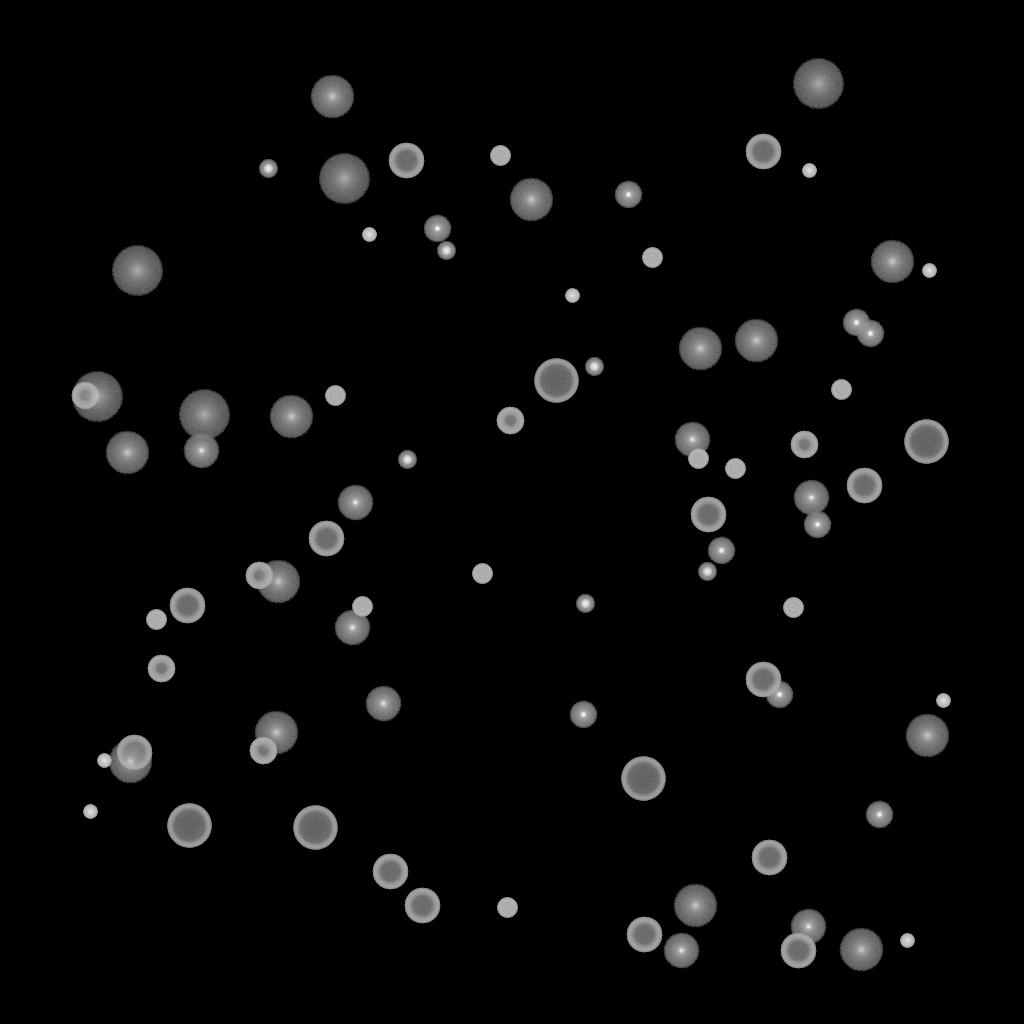depth:-10: (803, 511, 831, 539), (614, 181, 642, 209), (707, 537, 735, 565), (765, 681, 793, 709), (856, 320, 884, 348), (865, 801, 893, 829), (569, 701, 597, 729), (423, 215, 451, 243), (842, 309, 870, 337)
depth:-20: (585, 358, 603, 376), (398, 451, 416, 469), (437, 242, 455, 260), (259, 160, 277, 178), (698, 563, 716, 581), (576, 595, 594, 613)
depth:-30: (83, 805, 97, 819), (802, 164, 816, 178), (936, 694, 950, 708), (362, 228, 376, 242), (565, 289, 579, 303), (97, 754, 111, 768), (900, 934, 914, 948), (922, 264, 936, 278)
depth:-40: (642, 248, 662, 268), (497, 898, 517, 918), (783, 598, 803, 618), (831, 380, 851, 400), (325, 386, 345, 406), (146, 610, 166, 630), (688, 449, 708, 469), (725, 459, 745, 479), (472, 564, 492, 584), (490, 146, 510, 166), (352, 597, 372, 617)
depth:-50: (249, 737, 277, 765), (496, 407, 524, 435), (245, 562, 273, 590), (147, 655, 175, 683), (71, 382, 99, 410), (790, 431, 818, 459)
depth:-60: (751, 840, 787, 876), (372, 854, 408, 890), (116, 735, 152, 771), (388, 143, 424, 179), (308, 521, 344, 557), (780, 933, 816, 969), (690, 497, 726, 533), (626, 917, 662, 953), (404, 888, 440, 924), (846, 468, 882, 504), (169, 588, 205, 624), (745, 134, 781, 170), (745, 662, 781, 698)
depth:-70: (534, 359, 578, 403), (904, 420, 948, 464), (293, 806, 337, 850), (167, 804, 211, 848), (621, 757, 665, 801)
depth:0: (674, 422, 710, 458), (337, 485, 373, 521), (183, 433, 219, 469), (793, 480, 829, 516), (334, 610, 370, 646), (365, 686, 401, 722), (663, 933, 699, 969), (790, 909, 826, 945)
depth:10: (839, 928, 883, 972), (108, 740, 152, 784), (870, 240, 914, 284), (905, 714, 949, 758), (269, 395, 313, 439), (256, 560, 300, 604), (678, 327, 722, 371), (254, 711, 298, 755), (509, 178, 553, 222), (310, 75, 354, 119), (105, 431, 149, 475), (734, 319, 778, 363), (673, 884, 717, 928)
depth:20: (178, 390, 230, 440), (792, 59, 844, 109), (71, 372, 123, 422), (318, 154, 370, 204), (111, 246, 163, 296)
